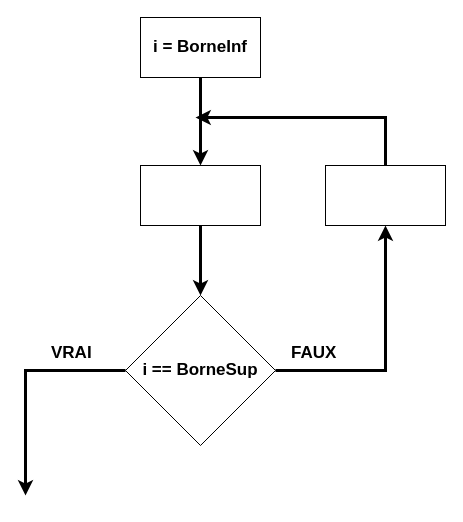
The diagram is 463 pixels wide and 522 high, and some of its shapes have lost their labels. Here are the shapes that lost their labels. From the top down, the centre of each, then its label:
the point at 200,195: Instruction 1
the point at 385,195: i = i + 1
